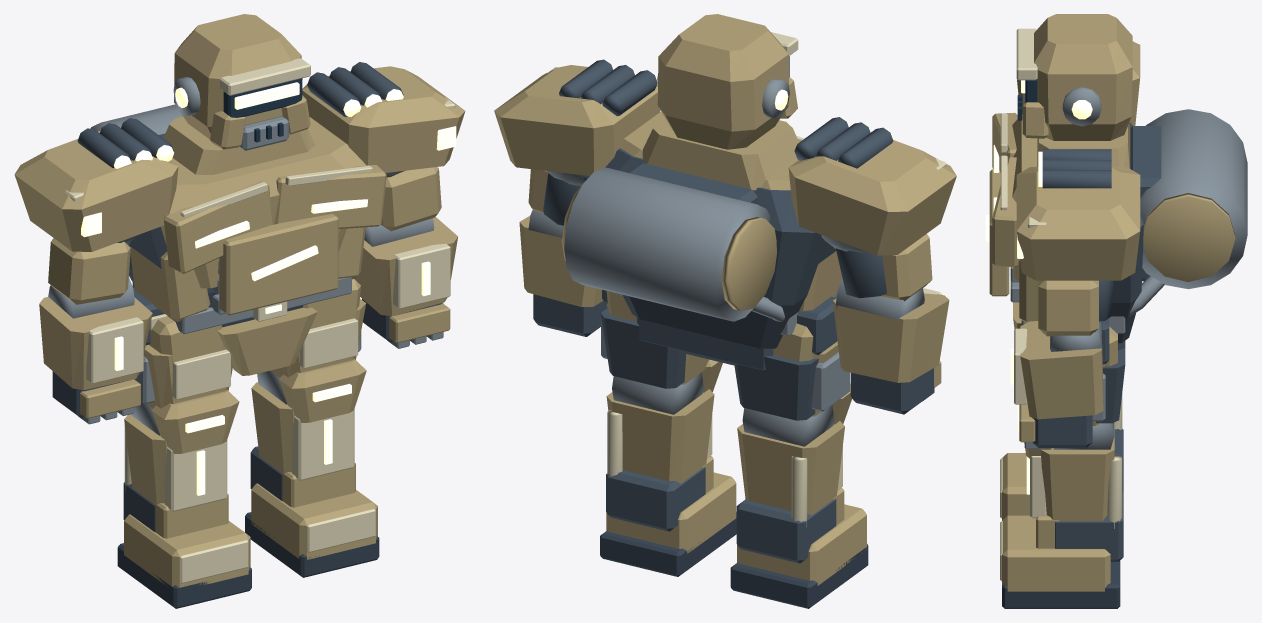
The model's file is bot_demolisher.glb.
3 renders of one model, left to right at view 1: azimuth 30°, elevation 25°; view 2: azimuth 150°, elevation 25°; view 3: azimuth 270°, elevation 25°, orthographic. The views are drawn at different scales.
Visible parts, largest first — view 1: shoulder_pauldron_63, shoulder_pauldron_78, thorax_blast_apron_135, helmet_94, thorax_carapace_2, forearm_bracer_69, pectoral_plate_3, boot_toe_47, pectoral_plate_13, boot_toe_31, codpiece_24, upper_arm_plate_67 (+52 smaller); view 2: reactor_drum_120, helmet_94, shoulder_pauldron_63, shoulder_pauldron_78, torso_1, forearm_bracer_69, shin_armor_51, shin_armor_35, neck_guard_collar_93, boot_ankle_49, boot_ankle_33, thigh_suit_41 (+32 smaller); view 3: shoulder_pauldron_78, helmet_94, reactor_drum_120, reactor_drum_cap_128, forearm_bracer_84, boot_toe_47, shin_armor_51, upper_arm_plate_82, boot_sole_46, boot_ankle_49, pectoral_plate_13, reactor_pack_108 (+26 smaller).
Boxes of the visible parts, <box> form: shoulder_pauldron_63: <box>14,130,178,251</box>; shoulder_pauldron_78: <box>302,66,465,172</box>; thorax_blast_apron_135: <box>219,214,338,315</box>; helmet_94: <box>174,14,301,139</box>; thorax_carapace_2: <box>161,117,366,288</box>; forearm_bracer_69: <box>39,297,152,390</box>; pectoral_plate_3: <box>164,180,273,273</box>; boot_toe_47: <box>251,483,377,559</box>; pectoral_plate_13: <box>274,165,386,228</box>; boot_toe_31: <box>124,514,250,587</box>; codpiece_24: <box>217,307,317,375</box>; upper_arm_plate_67: <box>48,238,130,304</box>; reactor_drum_120: <box>564,167,770,321</box>; helmet_94: <box>657,14,789,149</box>; shoulder_pauldron_63: <box>788,140,956,255</box>; shoulder_pauldron_78: <box>494,65,660,175</box>; torso_1: <box>584,148,836,348</box>; forearm_bracer_69: <box>833,293,949,382</box>; shin_armor_51: <box>606,389,714,483</box>; shin_armor_35: <box>737,421,844,515</box>; neck_guard_collar_93: <box>642,119,798,190</box>; boot_ankle_49: <box>606,467,705,531</box>; boot_ankle_33: <box>736,498,836,563</box>; thigh_suit_41: <box>734,355,818,420</box>; shoulder_pauldron_78: <box>1016,167,1140,280</box>; helmet_94: <box>1034,14,1132,140</box>; reactor_drum_120: <box>1140,109,1247,289</box>; reactor_drum_cap_128: <box>1143,193,1235,282</box>; forearm_bracer_84: <box>1020,321,1103,419</box>; boot_toe_47: <box>1002,515,1110,591</box>; shin_armor_51: <box>1040,422,1114,521</box>; upper_arm_plate_82: <box>1038,280,1098,336</box>; boot_sole_46: <box>1002,560,1120,608</box>; boot_ankle_49: <box>1055,491,1123,561</box>; pectoral_plate_13: <box>992,157,1019,267</box>; reactor_pack_108: <box>1130,126,1161,281</box>.
Bounding box in the file's own units: 1.91 × 2.37 × 1.06.
